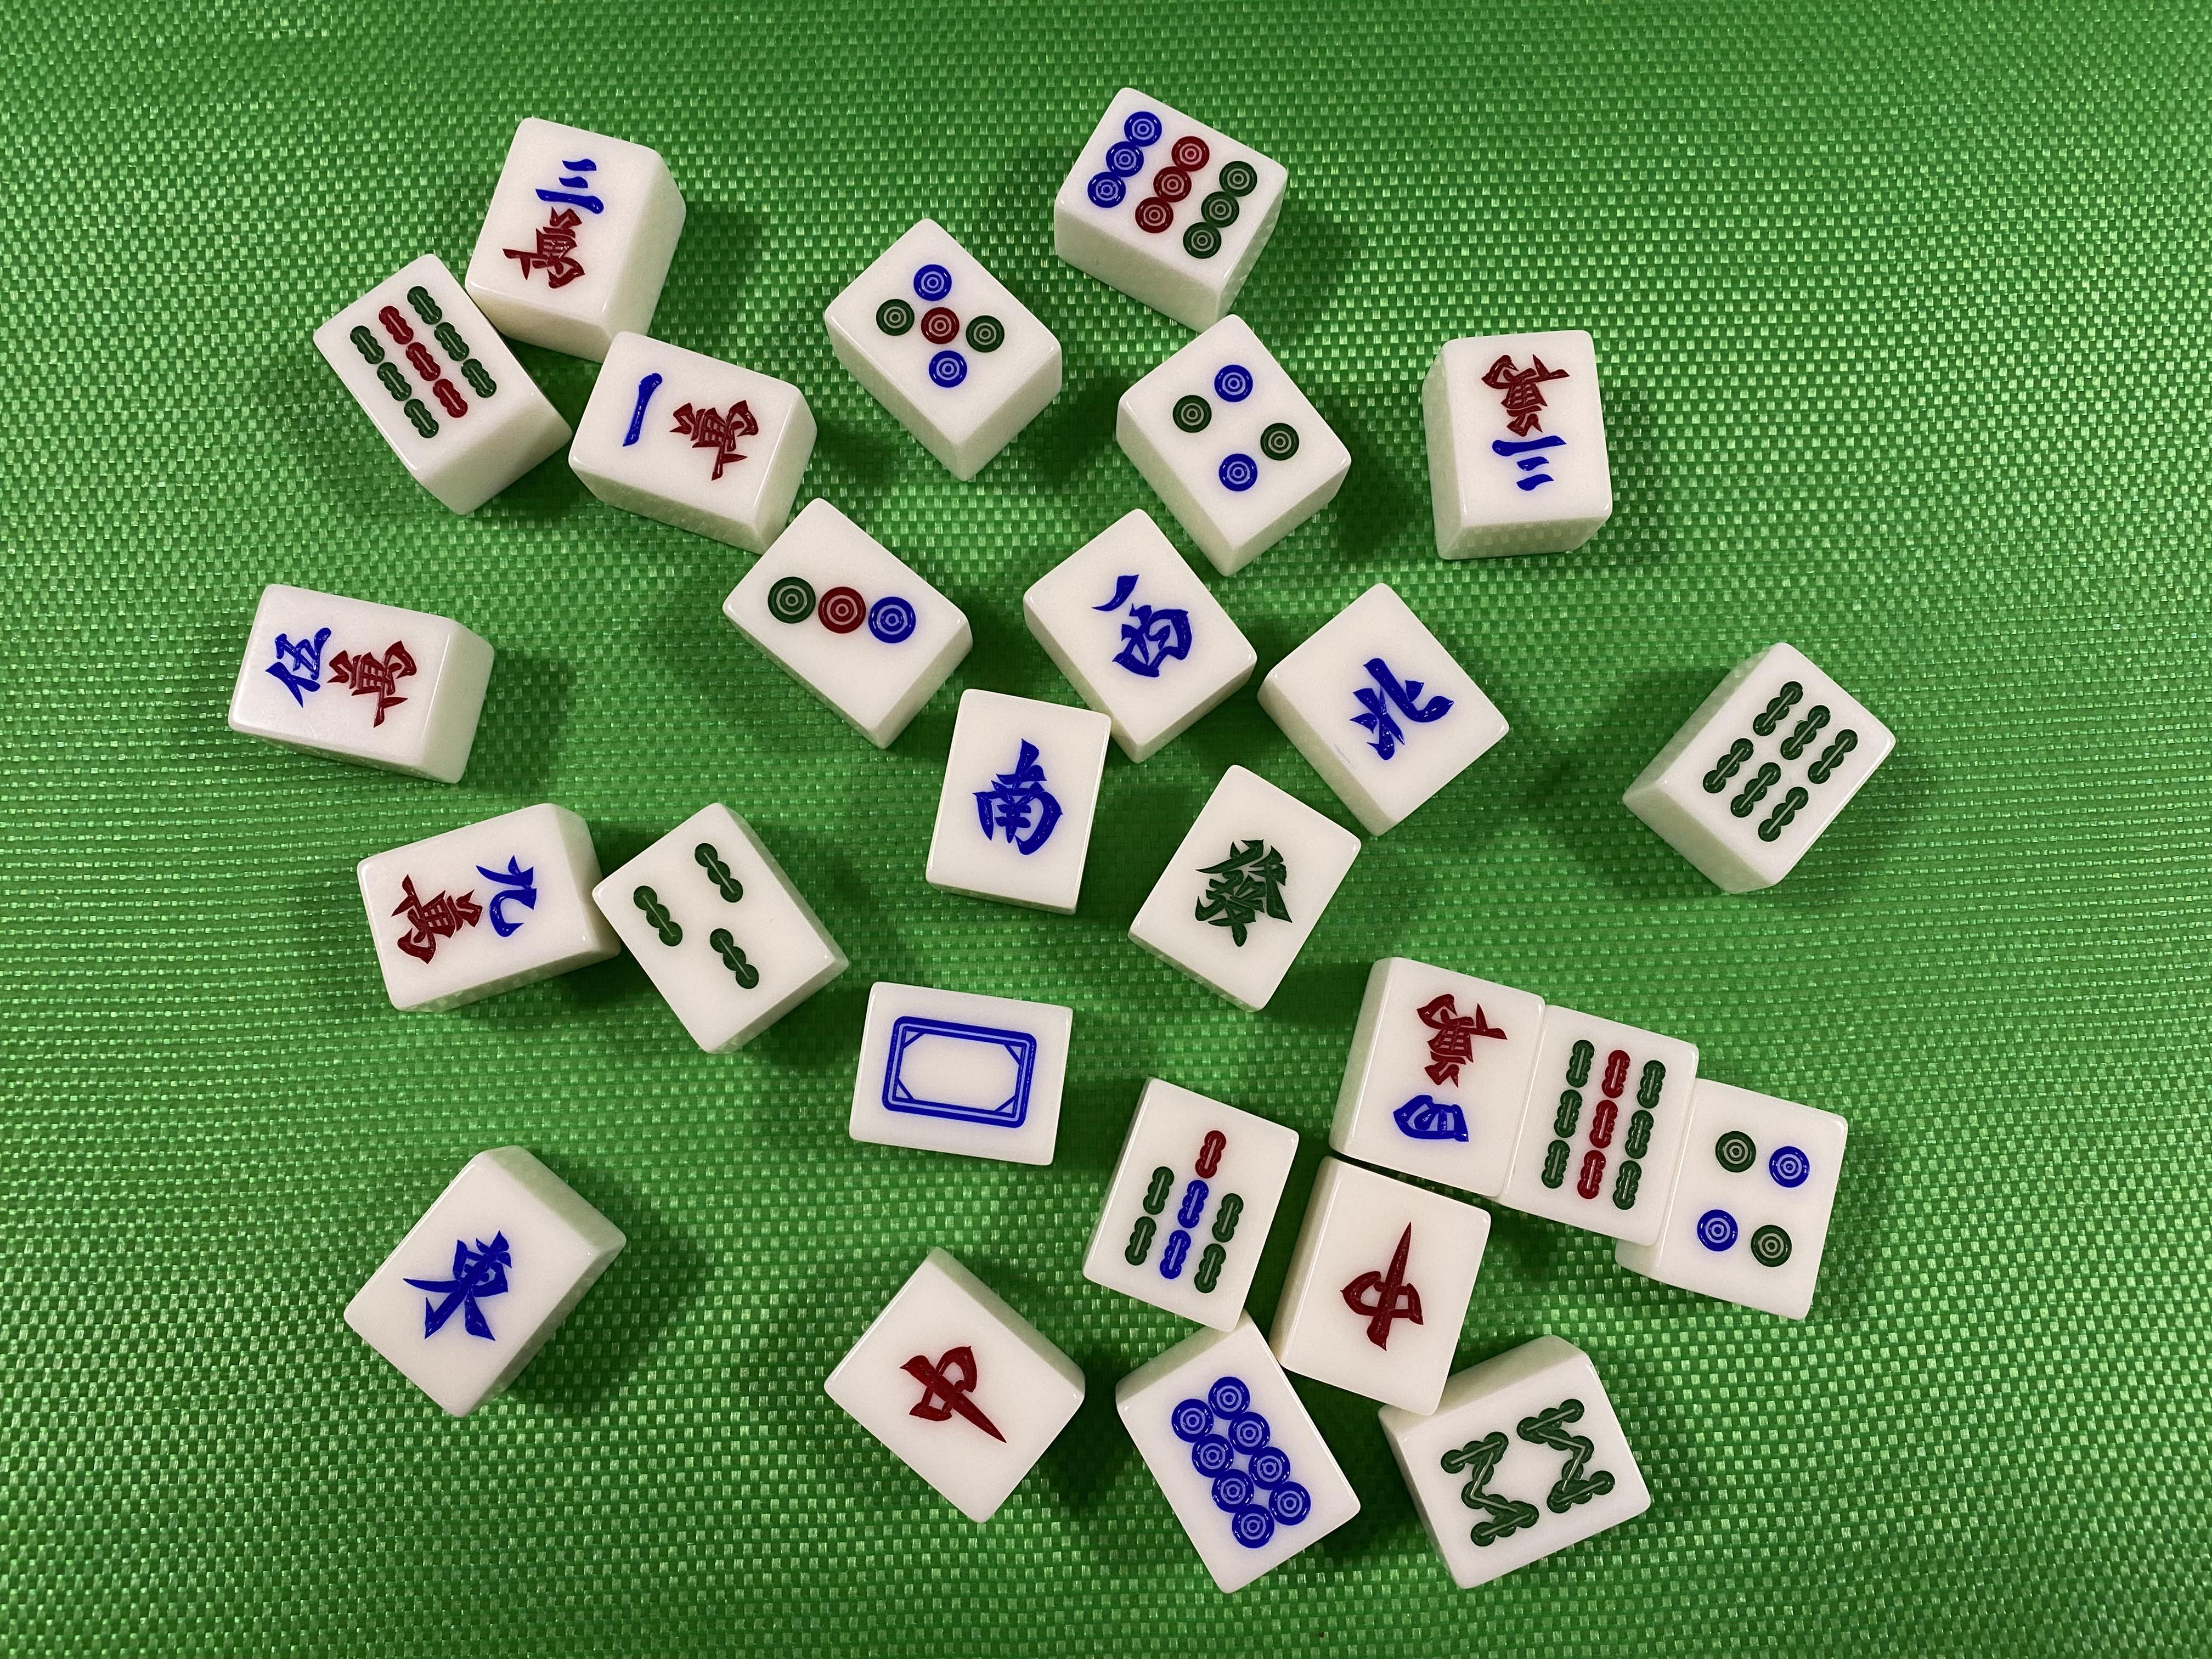bamboo-eight: (1400, 1356, 1651, 1588)
bamboo-nine: (312, 251, 529, 471), (1505, 1004, 1696, 1248)
bamboo-seven: (1083, 1080, 1301, 1333)
bamboo-six: (1658, 643, 1898, 884)
bamboo-three: (594, 802, 838, 1053)
character-five: (226, 586, 455, 767)
character-four: (1345, 958, 1547, 1199)
character-nine: (355, 802, 592, 1007)
character-one: (568, 329, 799, 525)
character-three: (463, 117, 660, 321), (1442, 331, 1615, 523)
circle-eight: (1116, 1323, 1364, 1596)
circle-five: (824, 214, 1064, 444)
circle-four: (1120, 310, 1352, 547), (1655, 1077, 1848, 1321)
circle-nine: (1054, 85, 1289, 291)
circle-three: (721, 495, 972, 730)
honor-blue_dragon: (848, 983, 1075, 1166)
honor-east_wind: (340, 1152, 599, 1420)
honor-green_dragon: (1130, 762, 1364, 1011)
honor-north_wind: (1266, 580, 1514, 823)
honor-red_dragon: (822, 1262, 1087, 1527), (1280, 1166, 1493, 1417)
honor-south_wind: (923, 688, 1115, 908)
honor-west_wind: (1026, 509, 1258, 744)
